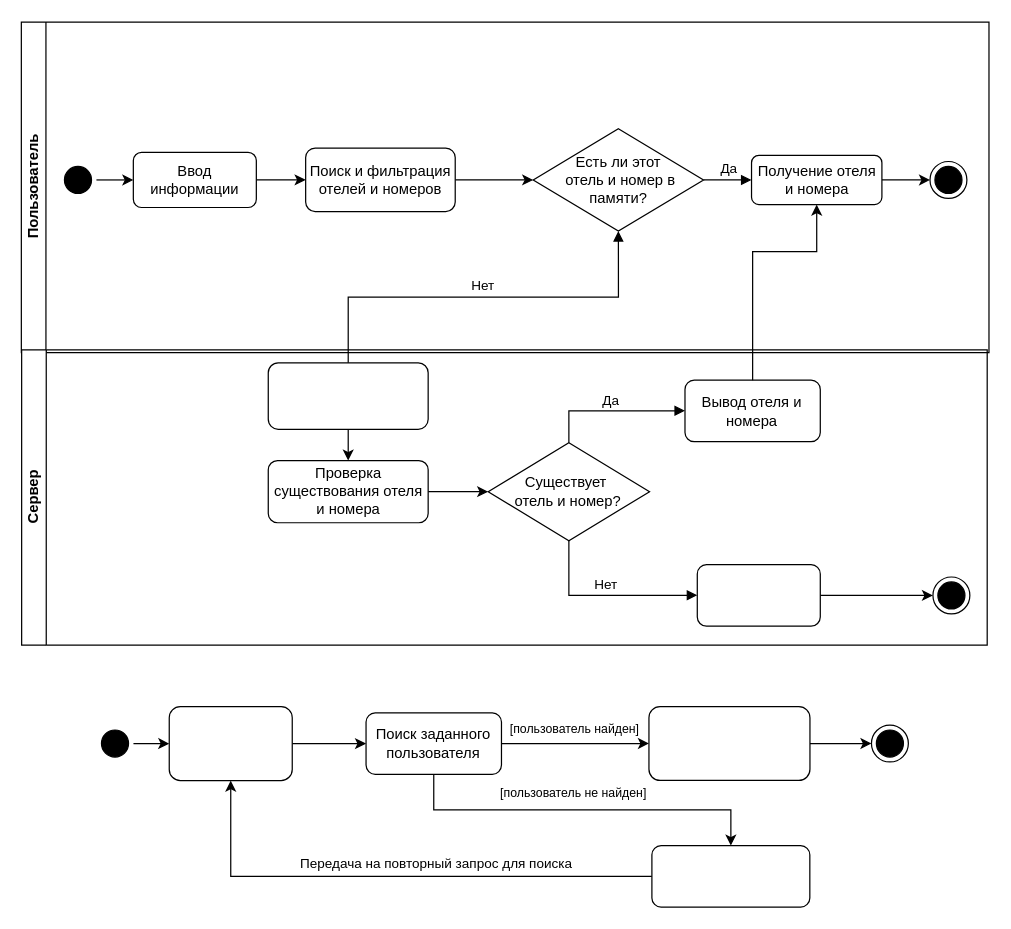
The diagram is 1011 pixels wide and 929 high, and some of its shapes have lost their labels. Here are the shapes that lost their labels. From the top down, the centre of each, then its label:
pixel 347 395: Вызов метода для поиска и фильтрации отелей и номеров
pixel 758 594: Сообщить, что отель и номер отсутствуют
pixel 230 743: Переход на страницу поиска
pixel 729 742: Просмотр истории бронирования пользователя
pixel 730 875: Отклонение запроса поиска пользователя
